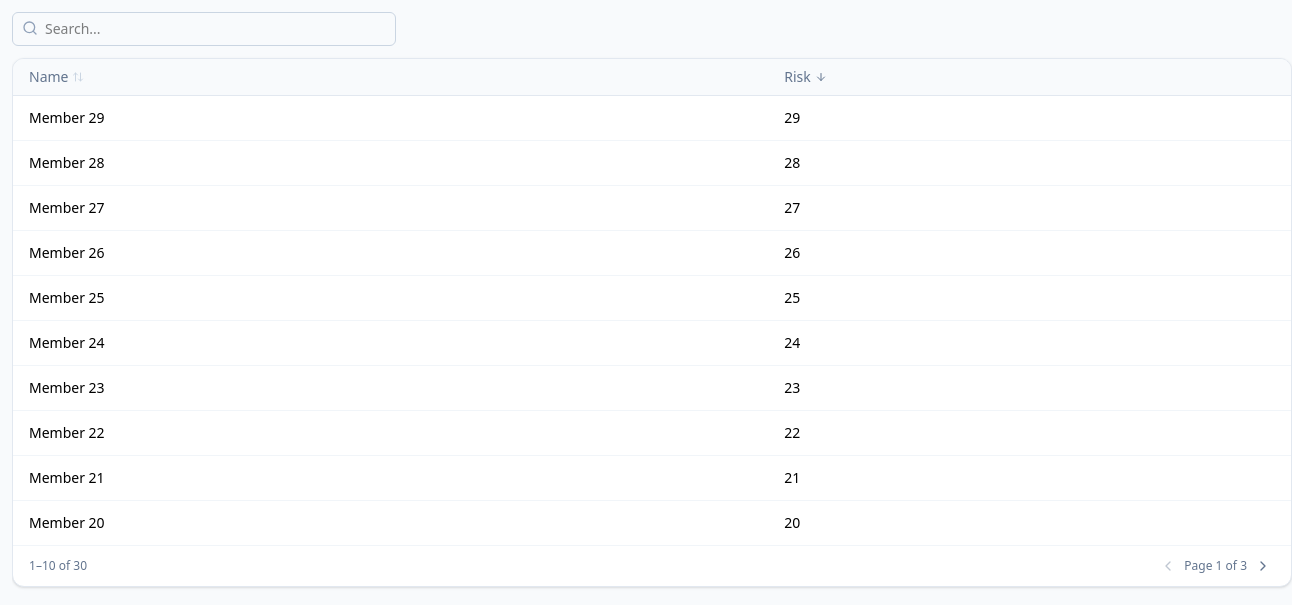
Test: DataTable › sorts by the initial sort, paginates, and toggles sort on header click
Expected: the text "1–10 of 30" is shown, left=29, top=558, right=87, bottom=574
What coordinates should you click on to do the following:
click the button named "next page"
I would click on:
 (1263, 566)
Its box is left=1251, top=554, right=1275, bottom=578.
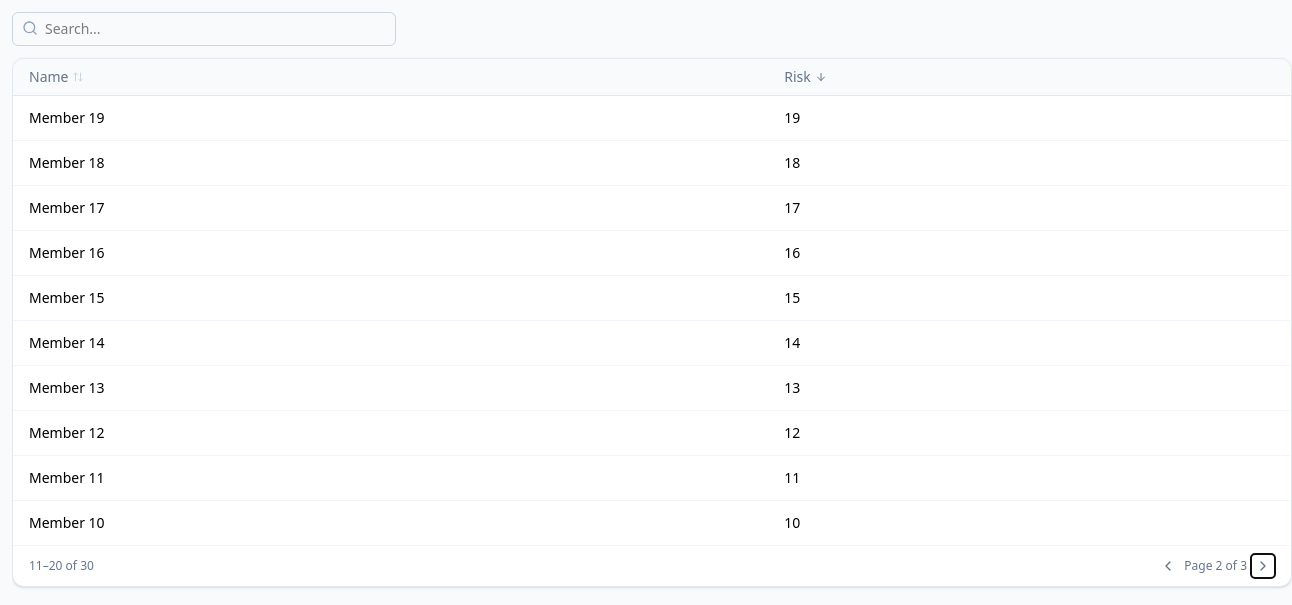
Now the cell "Member 19" is shown, box left=13, top=96, right=768, bottom=140
What coordinates should you click on to do the following:
click the button "Risk"
I would click on:
 (805, 77)
Its box is left=784, top=67, right=827, bottom=87.
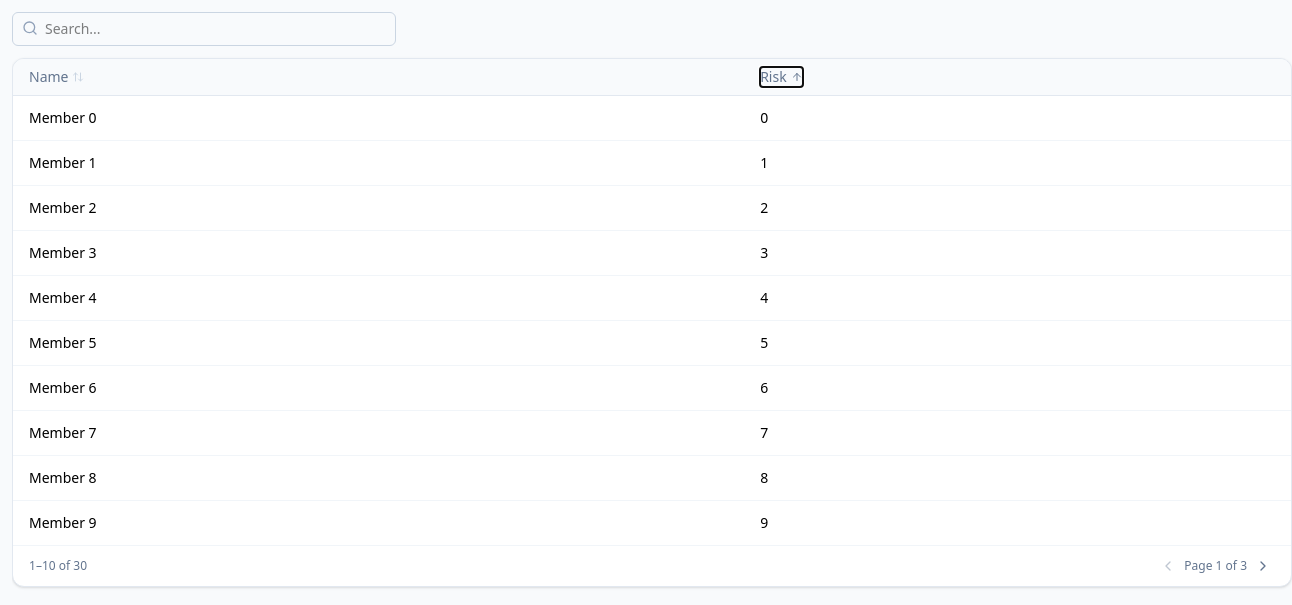
What coordinates should you click on to do the following:
click the button "Risk"
I would click on:
 (781, 77)
Its box is left=760, top=67, right=803, bottom=87.
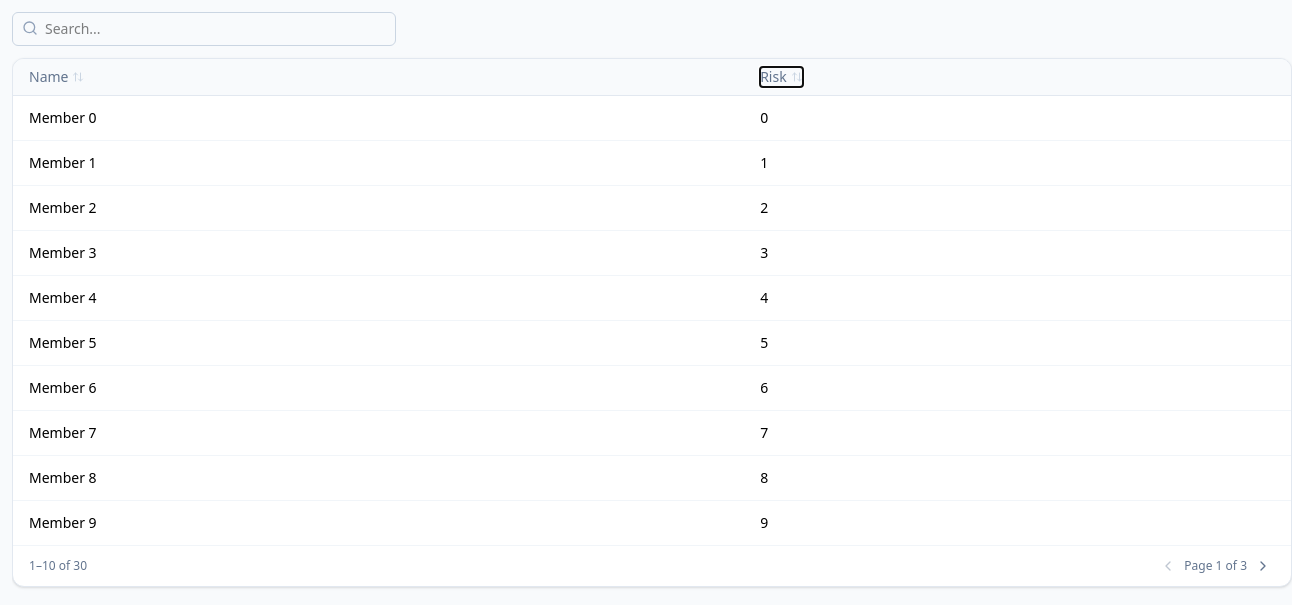
Now the cell "Member 0" is shown, box left=13, top=96, right=744, bottom=140
What coordinates should you click on to do the following:
click the button "Risk"
I would click on:
 (781, 77)
Its box is left=760, top=67, right=803, bottom=87.
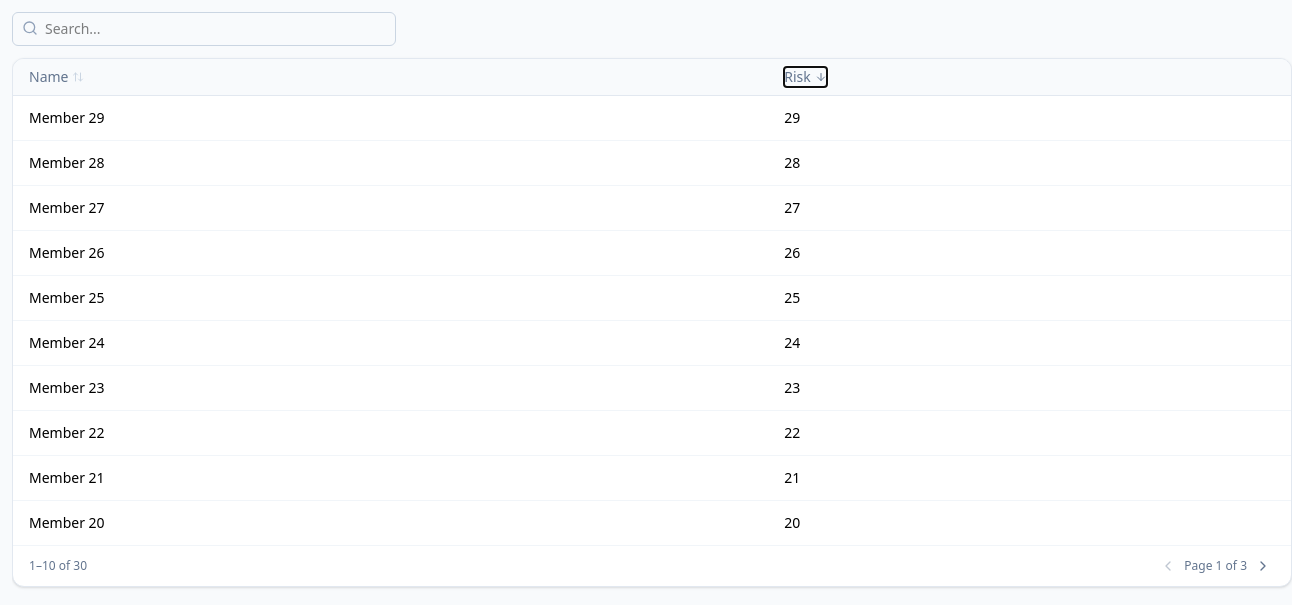
Now the cell "Member 29" is shown, box left=13, top=96, right=768, bottom=140
